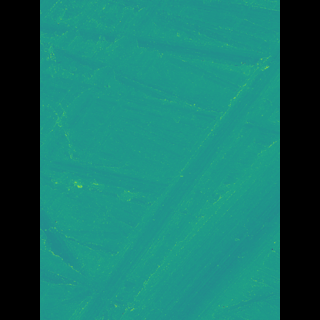Loch: (91, 31, 250, 319), (68, 0, 167, 201)
